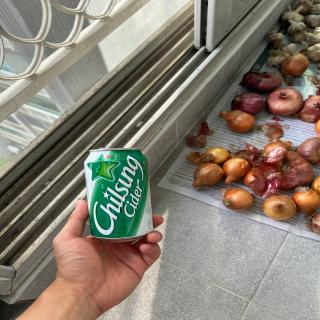chilsung: (82, 143, 157, 243)
